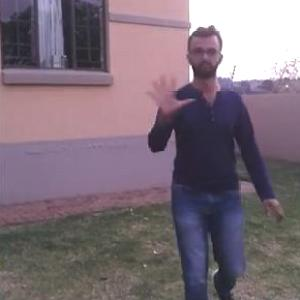follow_hand: (144, 70, 198, 116)
